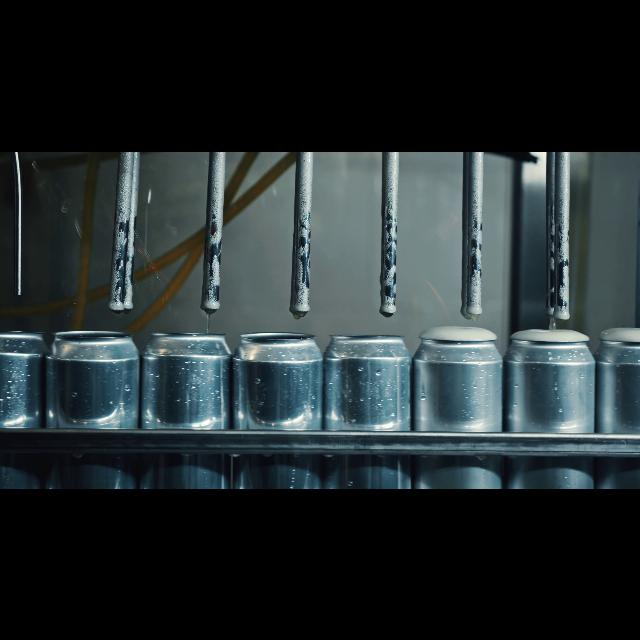empty: (53, 316, 137, 488), (142, 324, 228, 488), (234, 334, 320, 488), (334, 320, 410, 488), (0, 322, 46, 488)
full: (416, 318, 500, 488), (508, 316, 590, 488), (594, 314, 640, 488)
